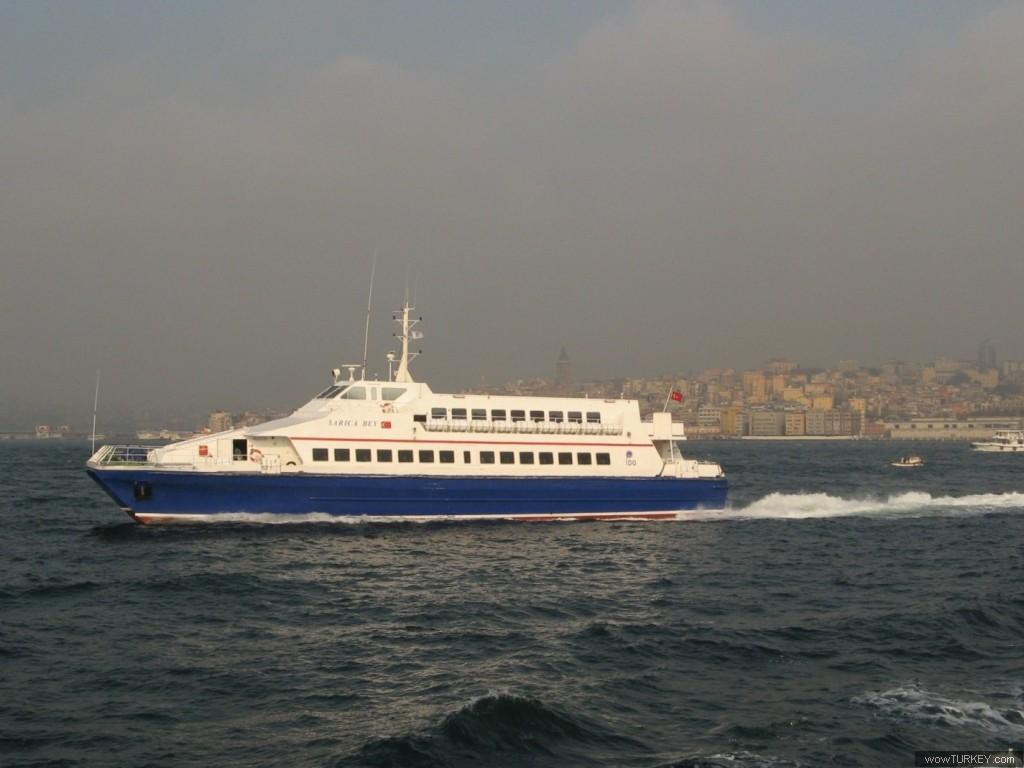PassengerShip: (72, 290, 732, 532), (968, 424, 1024, 455)
